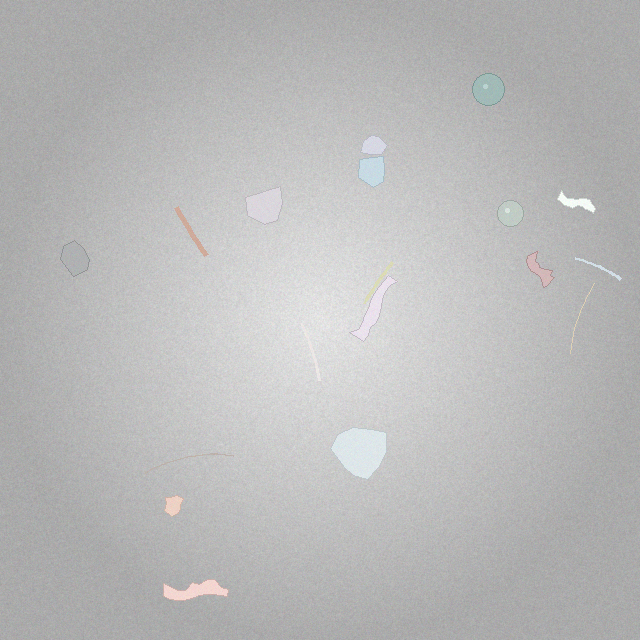fiber: (170, 201, 212, 261), (143, 453, 236, 476), (569, 282, 597, 355), (361, 258, 397, 307), (298, 320, 323, 383), (572, 256, 624, 282)
film: (350, 276, 397, 342), (163, 579, 228, 601), (527, 252, 555, 287), (558, 190, 595, 213)
fragment: (330, 428, 387, 479), (246, 187, 283, 224), (60, 241, 90, 277), (358, 157, 385, 187), (360, 136, 387, 154), (165, 496, 183, 516)
pellet: (473, 74, 505, 105), (497, 200, 524, 227)
